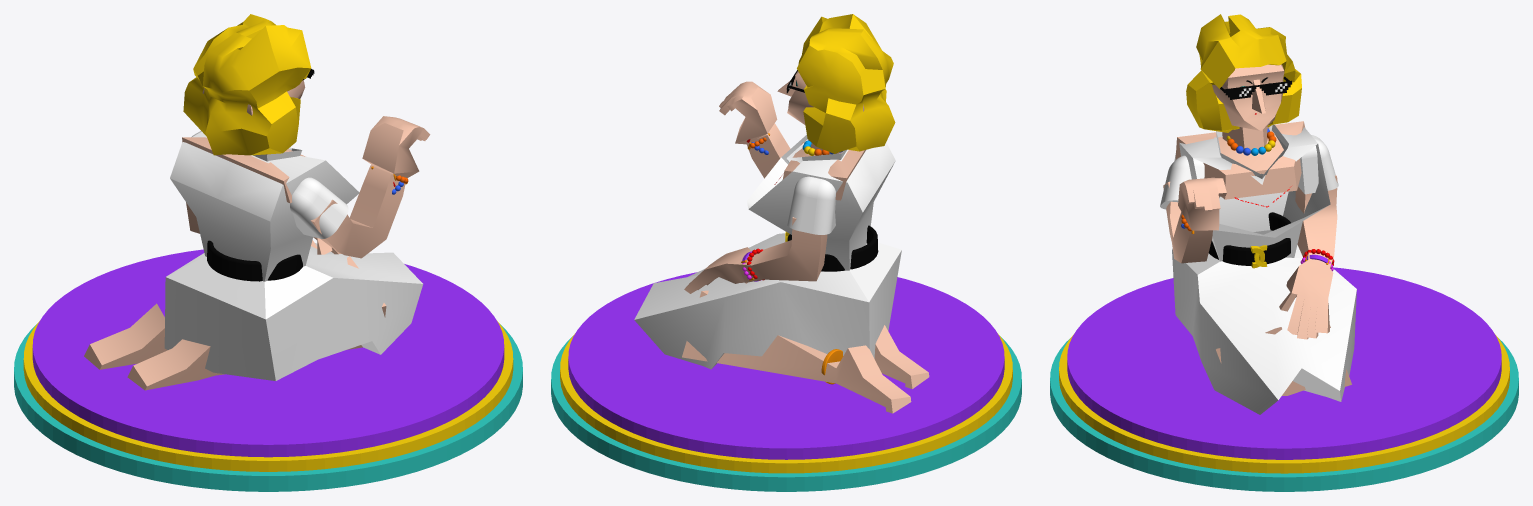
Rendered from Whiteline x Bkk Tales_ED_2.fbx.
3 views of the same model, side by side, from view 1: azimuth 30°, elevation 25°; view 2: azimuth 150°, elevation 25°; view 3: azimuth 270°, elevation 25° (orthographic). The views are drawn at different scales.
Parts seen in each view (by area): view 1: Tube, Cube_1_6, Cube, Tube_1, Tube_2, Cube_3, Cube_1_2, Cube_1, Cube_2, Tube_3, Cube_1_3; view 2: Tube, Cube_1_6, Cube, Tube_1, Tube_2, Cube_1_2, Cube_1_7, Cube_3, Cube_4_2, Cube_1_3, Cube_1, Tube_3; view 3: Tube, Cube_1_6, Tube_1, Tube_2, Cube_1_3, Cube, Cube_1_7, Cube_3, Tube_3, Cube_4_2, Cube_2.
Boxes of the visible parts, x1,y1,x2,y2 form: Tube: (32,249,504,457); Cube_1_6: (164,132,423,380); Cube: (183,14,311,155); Tube_1: (14,323,522,491); Tube_2: (23,321,513,471); Cube_3: (310,116,430,258); Cube_1_2: (84,240,317,369); Cube_1: (127,256,386,390); Cube_2: (290,177,348,238); Tube_3: (207,240,302,281); Cube_1_3: (182,80,305,203); Tube: (568,272,1004,459); Cube_1_6: (634,135,901,369); Cube: (797,14,895,153); Tube_1: (551,336,1021,491); Tube_2: (560,333,1012,473); Cube_1_2: (682,290,911,413); Cube_1_7: (684,217,827,293); Cube_3: (719,81,790,178); Cube_4_2: (787,176,835,234); Cube_1_3: (777,71,865,200); Cube_1: (874,325,929,388); Tube_3: (787,225,878,271); Tube: (1067,267,1501,459); Cube_1_6: (1172,124,1356,414); Tube_1: (1050,338,1518,491); Tube_2: (1059,333,1509,473); Cube_1_3: (1175,64,1305,199); Cube: (1186,14,1301,132); Cube_1_7: (1279,175,1337,339); Cube_3: (1163,177,1226,263); Tube_3: (1208,212,1290,265); Cube_4_2: (1298,135,1338,194); Cube_2: (1160,155,1204,209).
Bounding box in the file's own units: 240 × 205 × 241.
